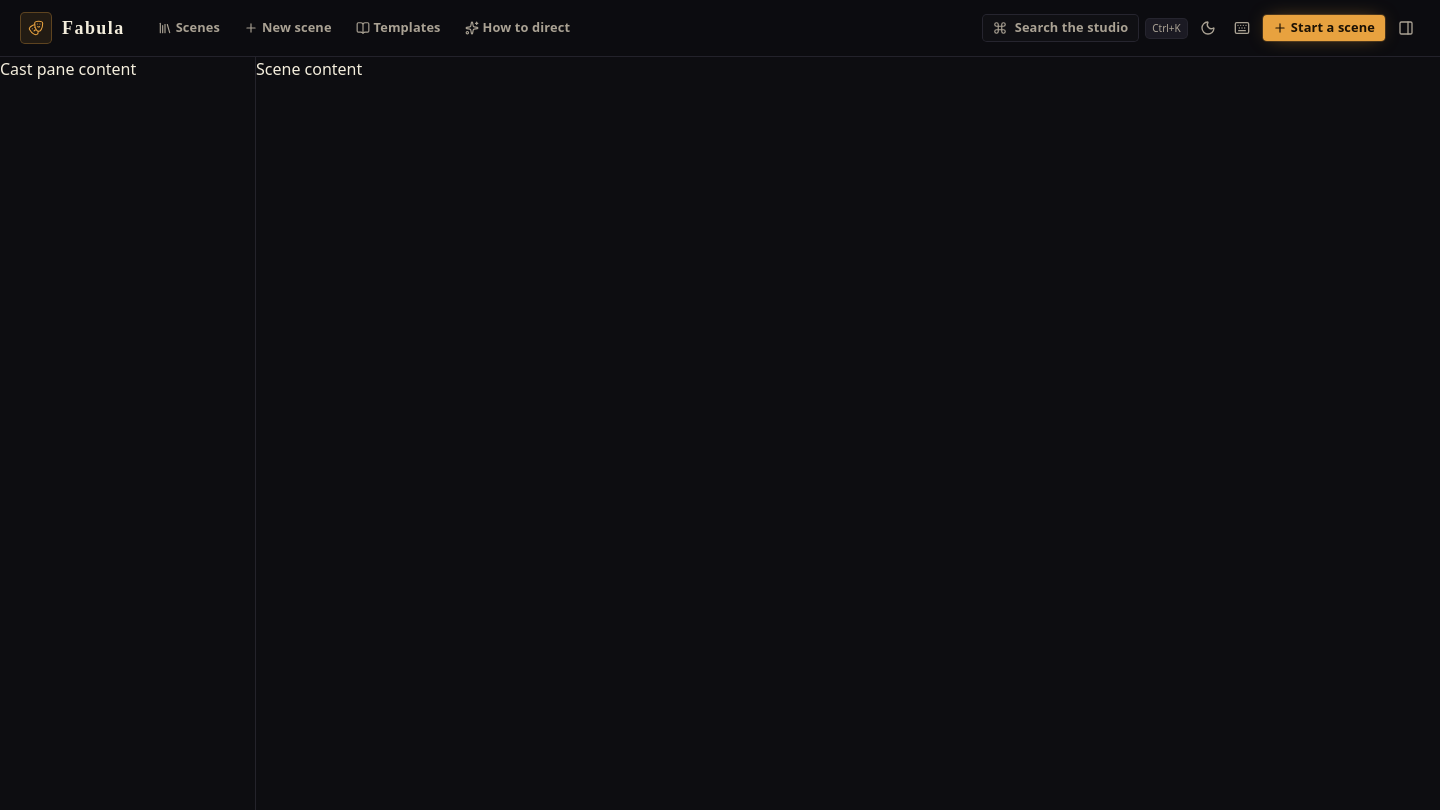
Test case: AppShell responsive panes › tablet 769 to 1200px keeps the left pane inline and sheets the inspector
Expected: the element "Cast" is shown, [0,57,256,809]
Expected: the element "Inspector" is not shown
Click the button named "Open Inspector".
click(1406, 28)  # box [1392,14,1420,42]
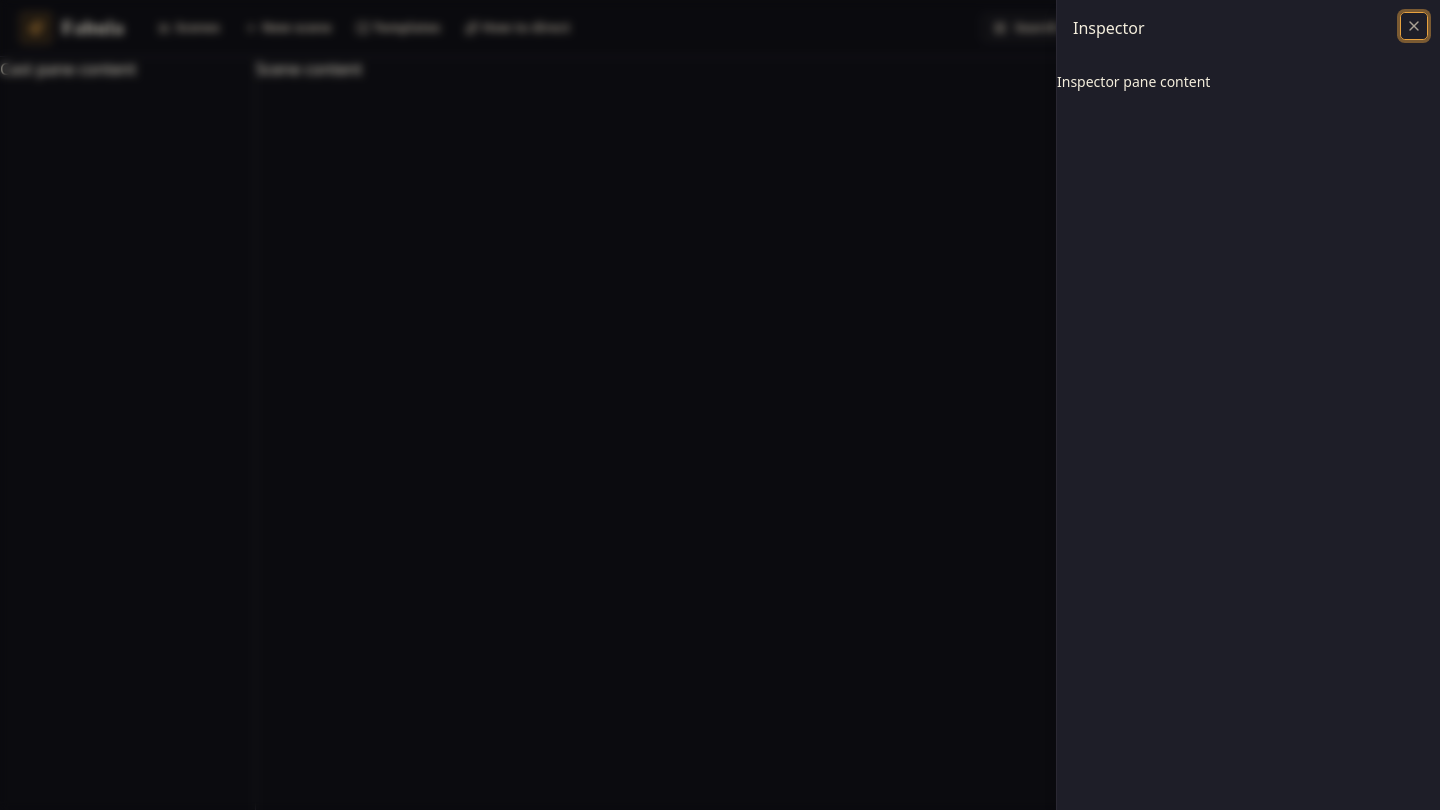
Result: the text "Inspector pane content" is shown at [1057,72,1210,91]
